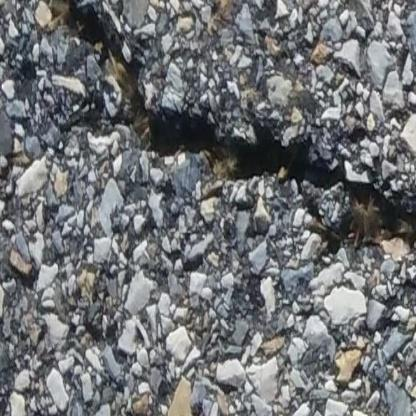Cracks: (39, 0, 416, 282)
